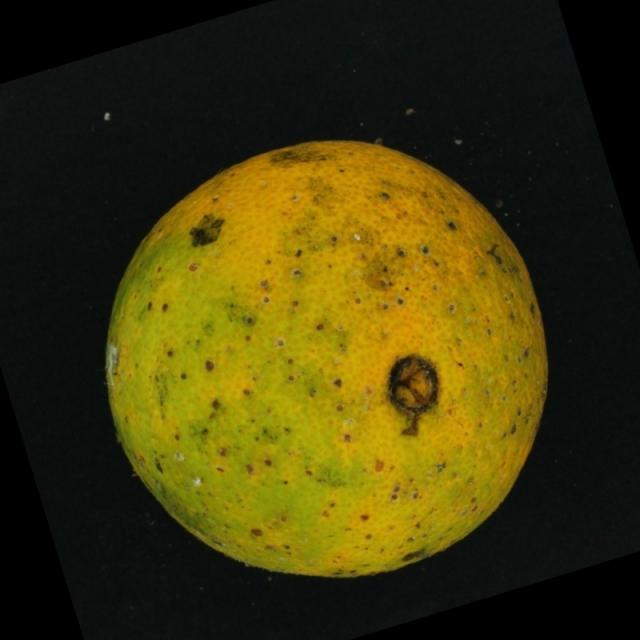grenning: (98, 118, 567, 596)
